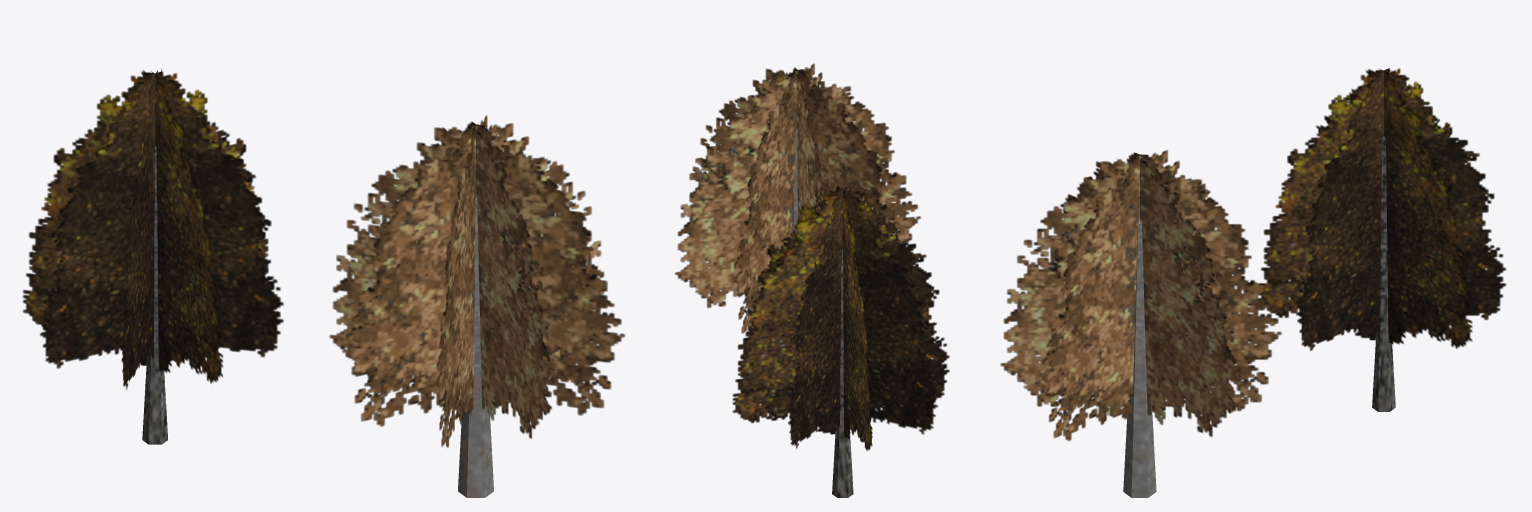
The model's file is trees_29_33_IV.glb.
3 renders of one model, left to right at view 1: azimuth 30°, elevation 25°; view 2: azimuth 150°, elevation 25°; view 3: azimuth 270°, elevation 25°, orthographic. The views are drawn at different scales.
Parts seen in each view (by area): view 1: tree29, tree33; view 2: tree33, tree29; view 3: tree29, tree33.
Boxes of the visible parts, x1=… form: tree29: x1=329, y1=115, x2=625, y2=497; tree33: x1=22, y1=69, x2=283, y2=444; tree33: x1=732, y1=185, x2=949, y2=497; tree29: x1=675, y1=63, x2=920, y2=333; tree29: x1=1000, y1=150, x2=1281, y2=497; tree33: x1=1258, y1=68, x2=1506, y2=411.
Size of the model in its own units: 2.04 by 1.56 by 2.23.
Materials: 2 (2 with a texture image).
